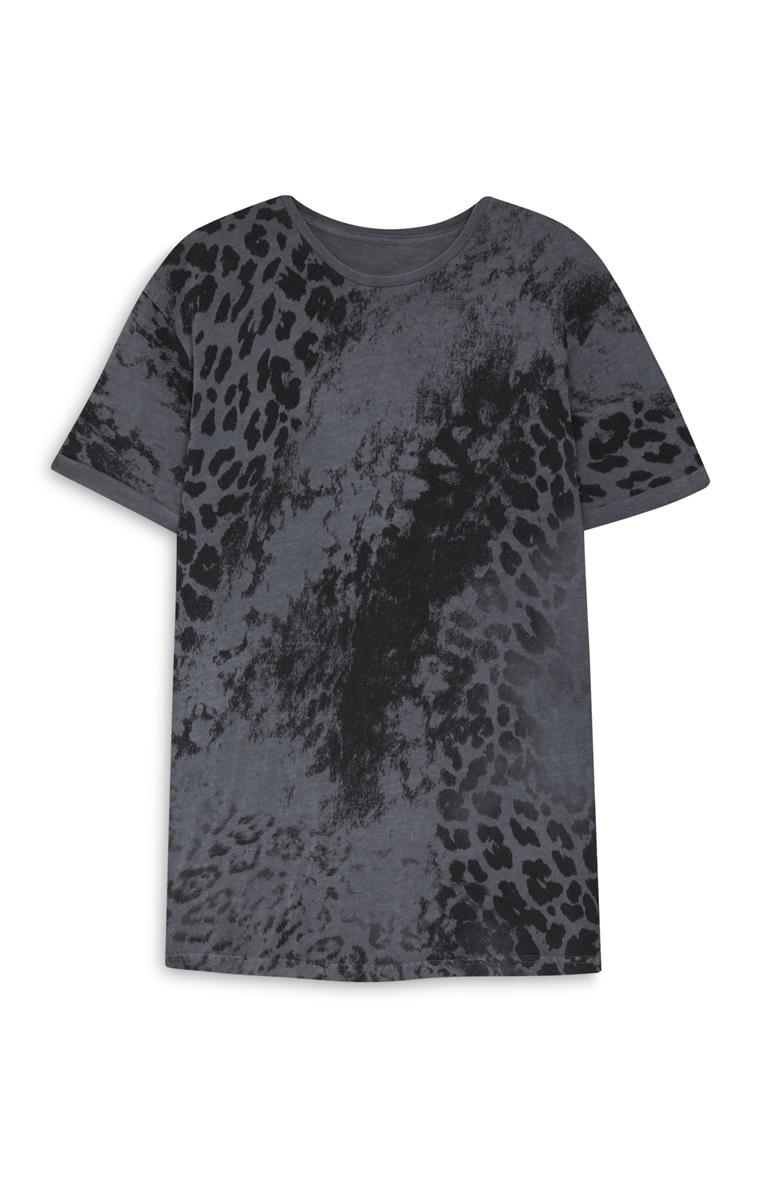teeshirt: (7, 143, 714, 1067)
